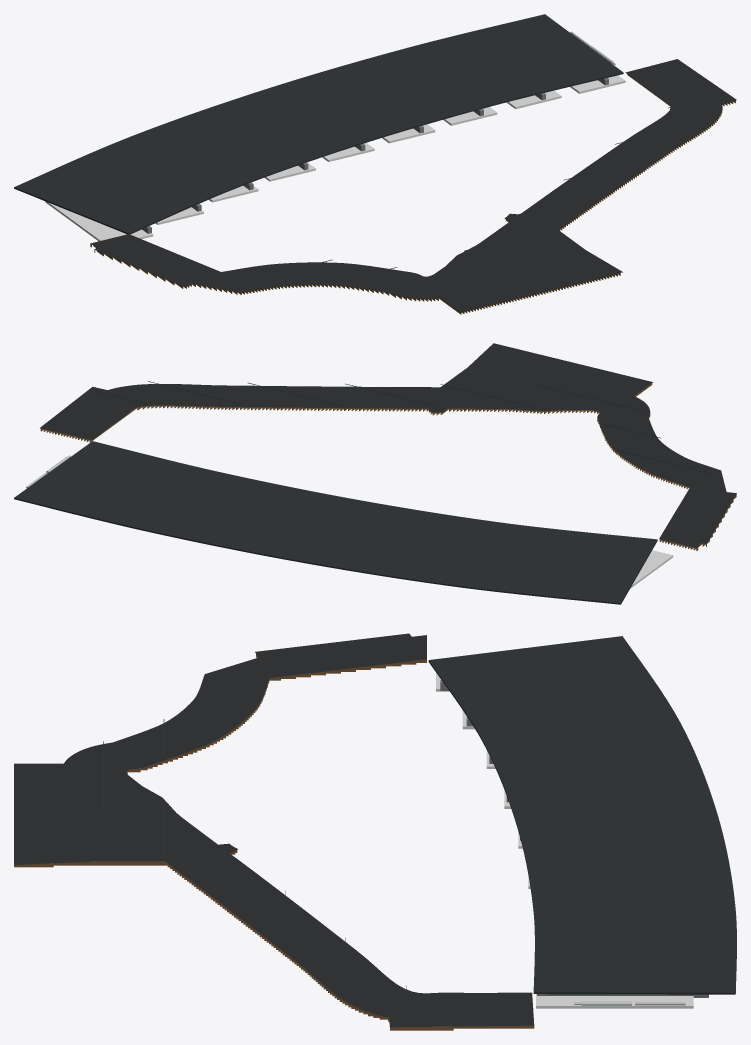
Rendered from SM_L2_Ceiling_Solid_3cdcecdf1c_0.fbx.
3 renders of one model, top to bottom at view 1: azimuth 30°, elevation 25°; view 2: azimuth 150°, elevation 25°; view 3: azimuth 270°, elevation 25°, orthographic. The views are drawn at different scales.
Parts seen in each view (by area): view 1: SM_L2_Ceiling_Solid_3cdcecdf1c_0; view 2: SM_L2_Ceiling_Solid_3cdcecdf1c_0; view 3: SM_L2_Ceiling_Solid_3cdcecdf1c_0.
Part boxes in pixels (x1,y1,x2,y2): SM_L2_Ceiling_Solid_3cdcecdf1c_0: [14, 14, 736, 314]; SM_L2_Ceiling_Solid_3cdcecdf1c_0: [14, 343, 736, 604]; SM_L2_Ceiling_Solid_3cdcecdf1c_0: [14, 633, 736, 1030].
Size of the model in its own units: 46.1 by 35.78 by 0.9961.
